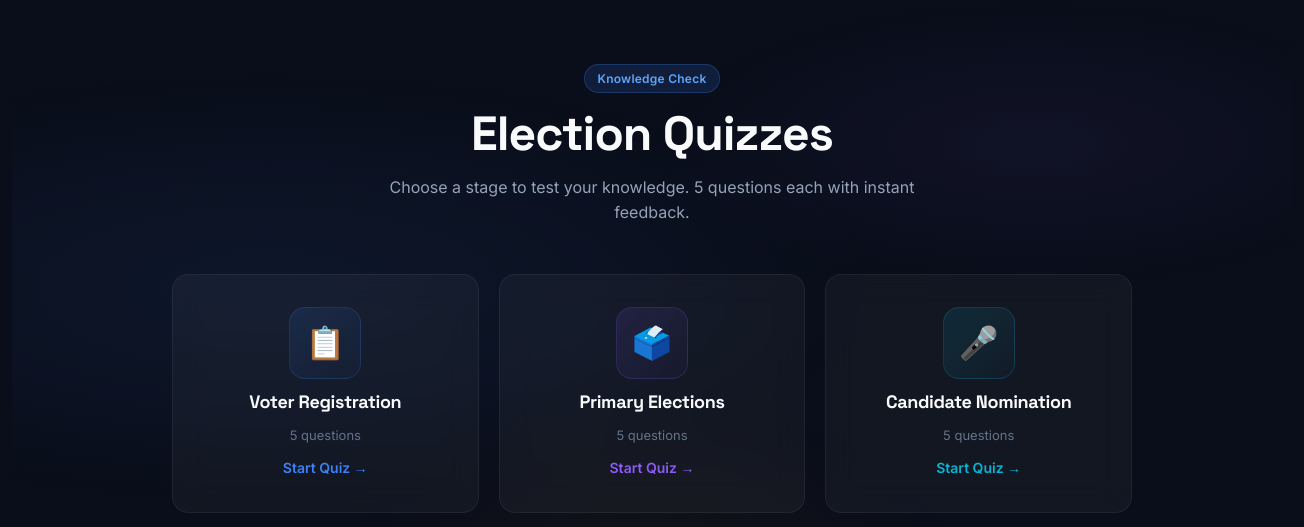
Test: Quiz Page › starts quiz when a stage is selected
Click the button "📋 Voter Registration 5 questions Start Quiz →" at [325, 393], box [172,274,479,513]
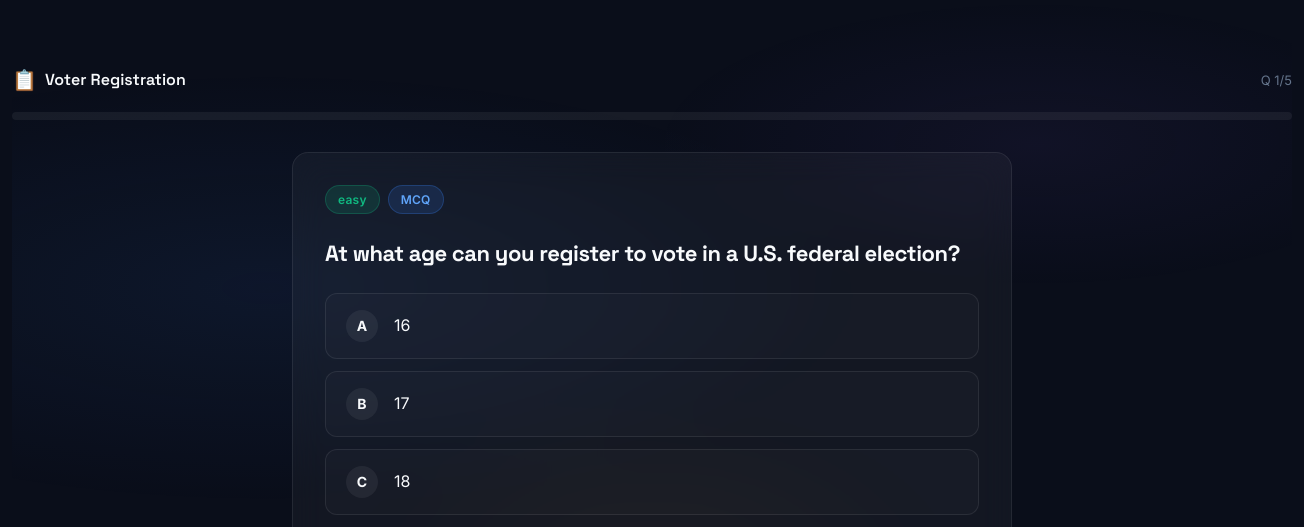
Expected: the text "Q 1/5" is shown, [1261,70,1292,90]
